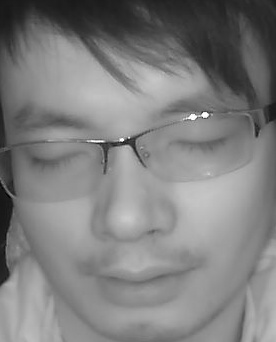glass: (132, 112, 257, 179), (1, 139, 107, 202)
mouth: (84, 252, 189, 307)
